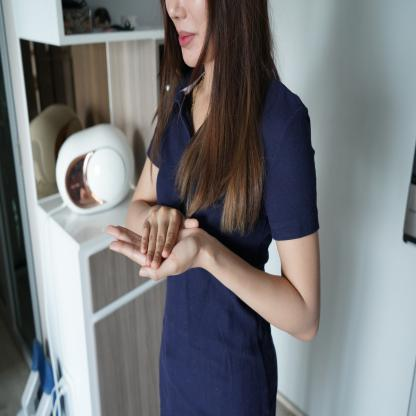Love: (101, 199, 226, 288)
